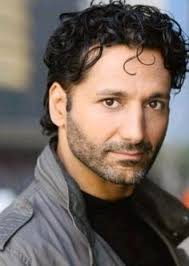middle_eastern_male: (57, 20, 175, 180)
